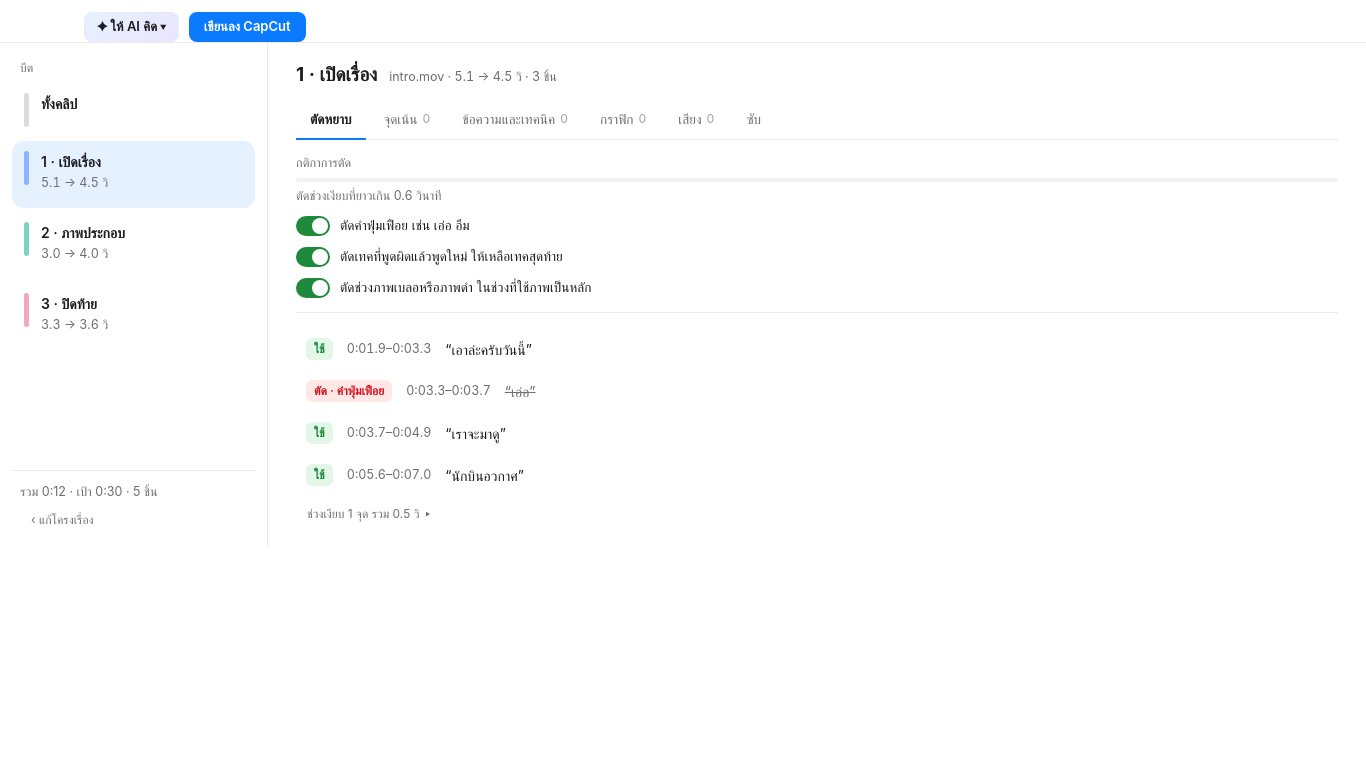
Test: the subtitle tab holds the subtitle settings, and turning subtitles on lists the beat's lines
Click the tab "ซับ" at coordinates (754, 120), box [732,100,775,140]
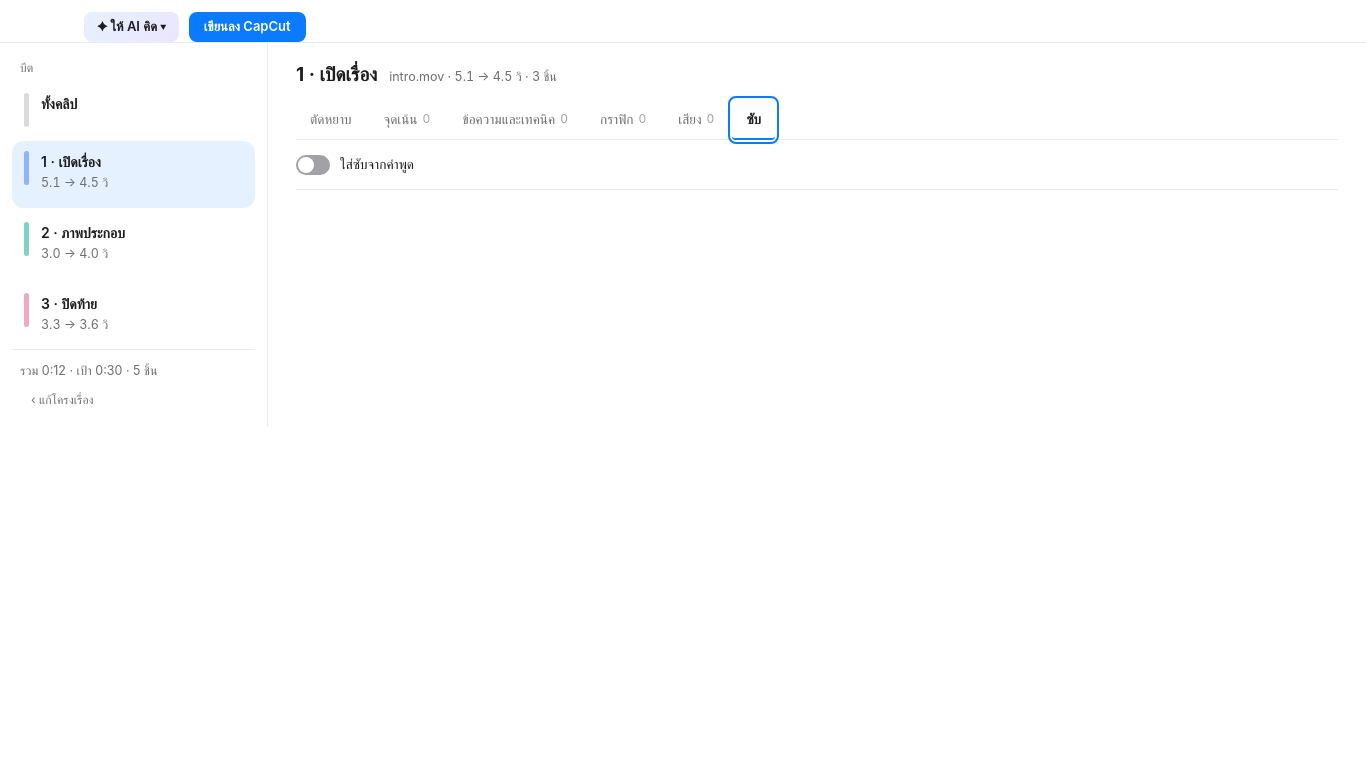
Now the switch labelled "ใส่ซับจากคำพูด" is not checked
Click the switch labelled "ใส่ซับจากคำพูด" at coordinates (355, 165), box [296,155,414,175]
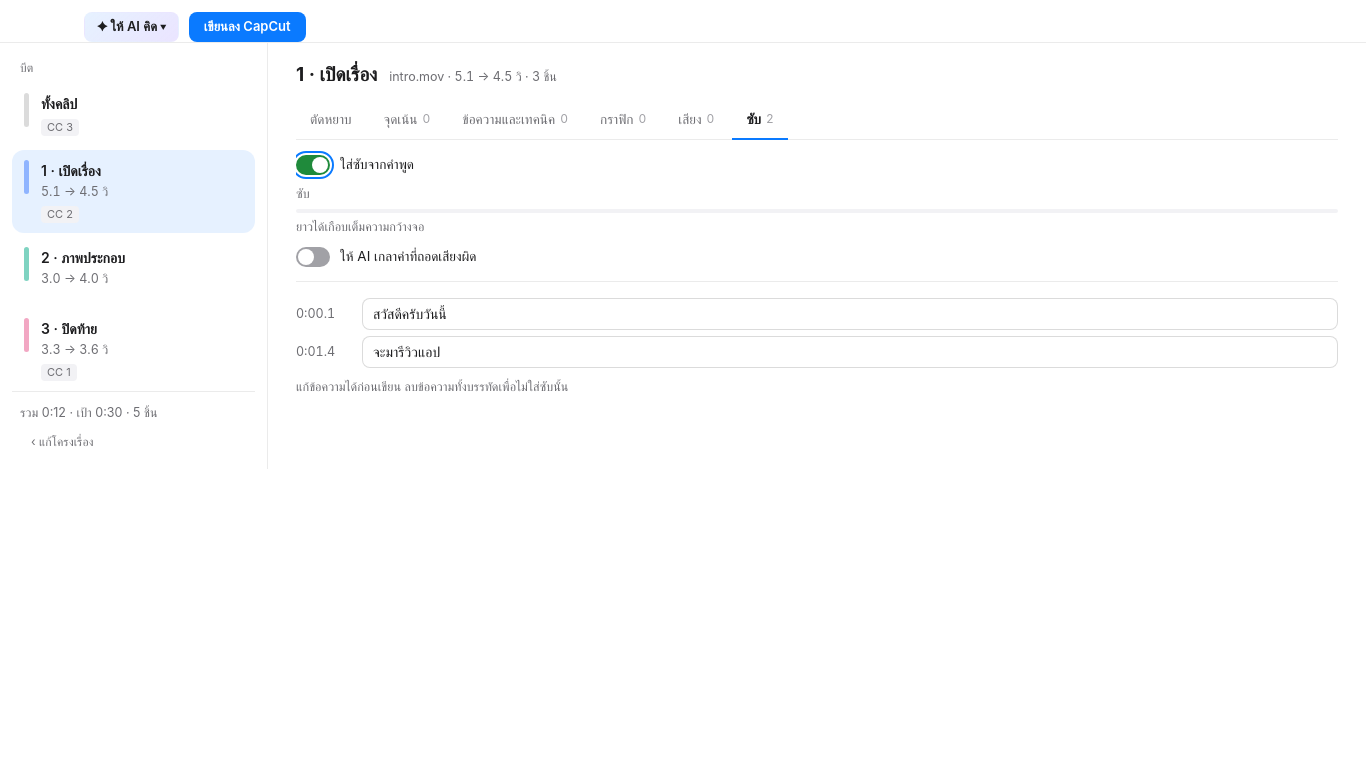
Now the field showing "สวัสดีครับวันนี้" is shown, box [362,298,1338,330]
Now the switch labelled "ให้ AI เกลาคำที่ถอดเสียงผิด" is shown, box [296,247,476,267]
